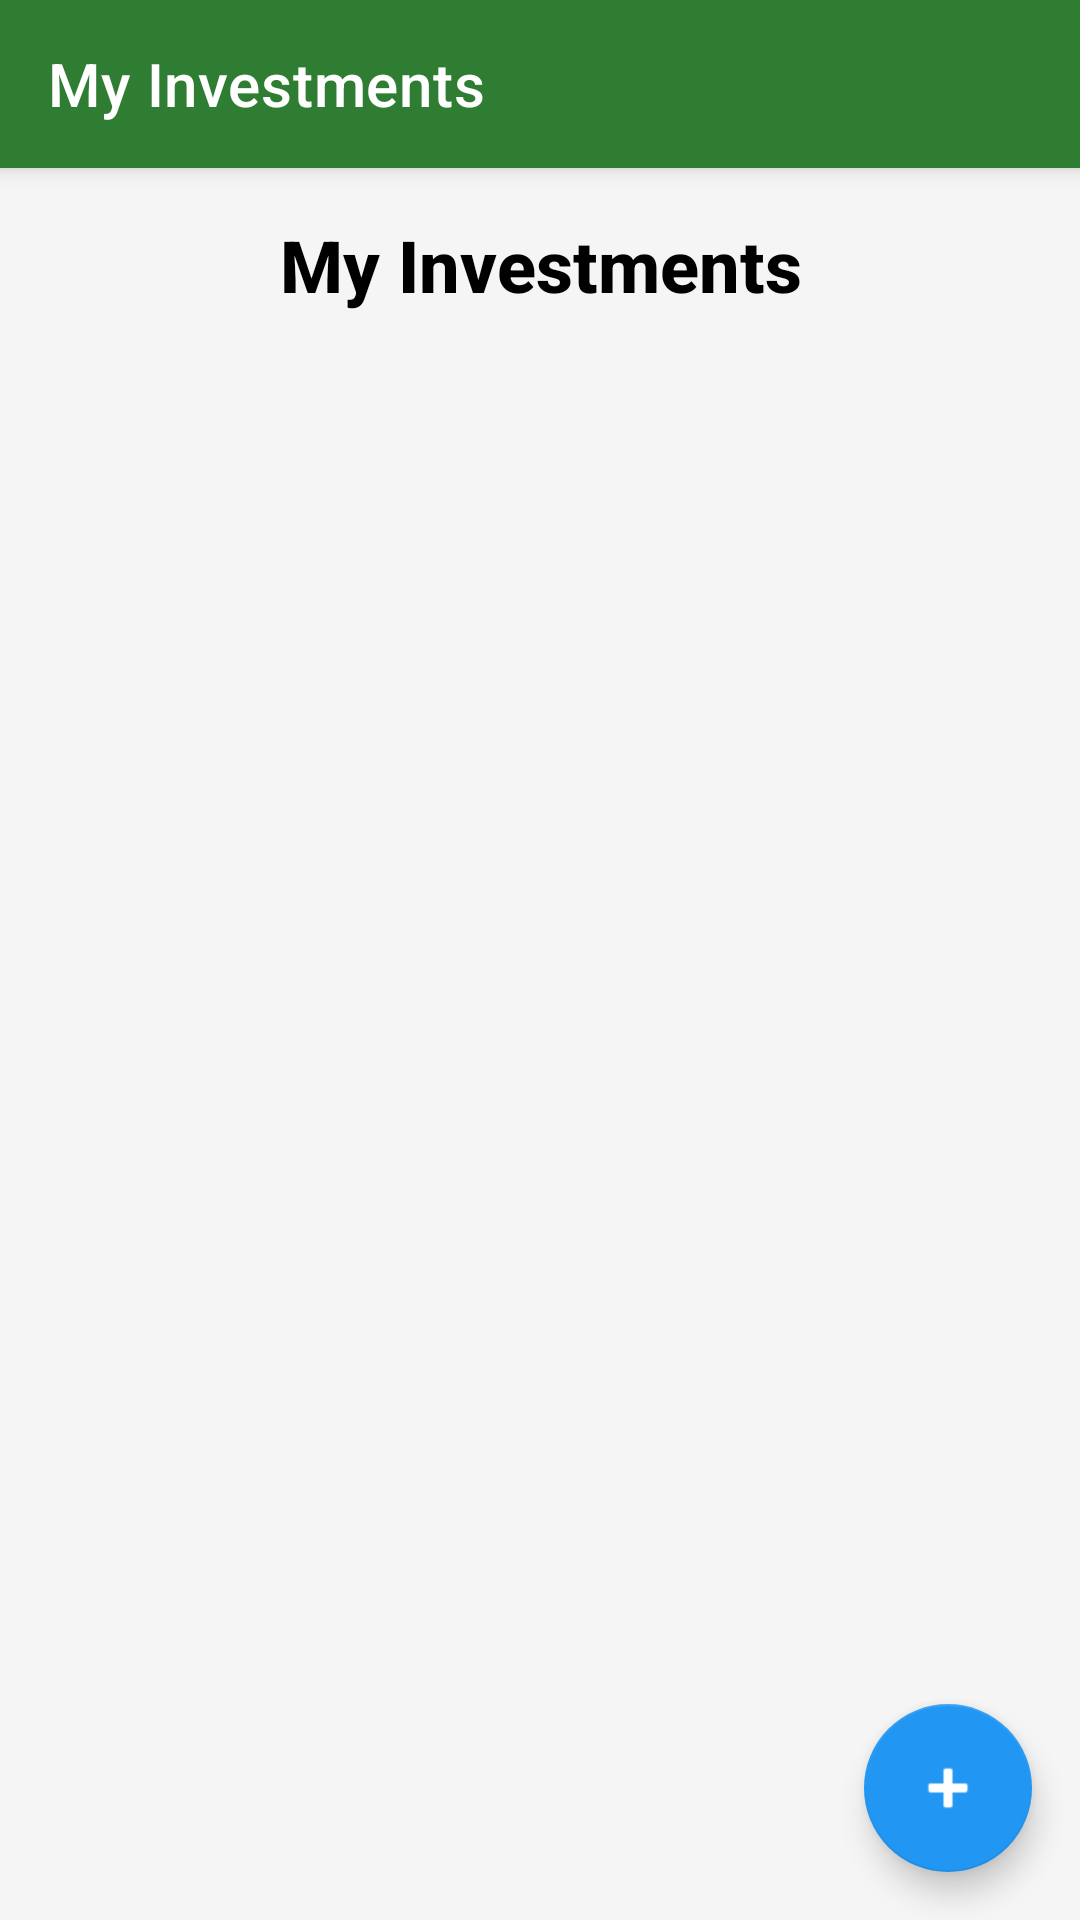

Where icons sit on this 1080px x 1920px app screen, as box=[x1, y1, x2, y2]:
New Investment: box=[864, 1704, 1032, 1872]
